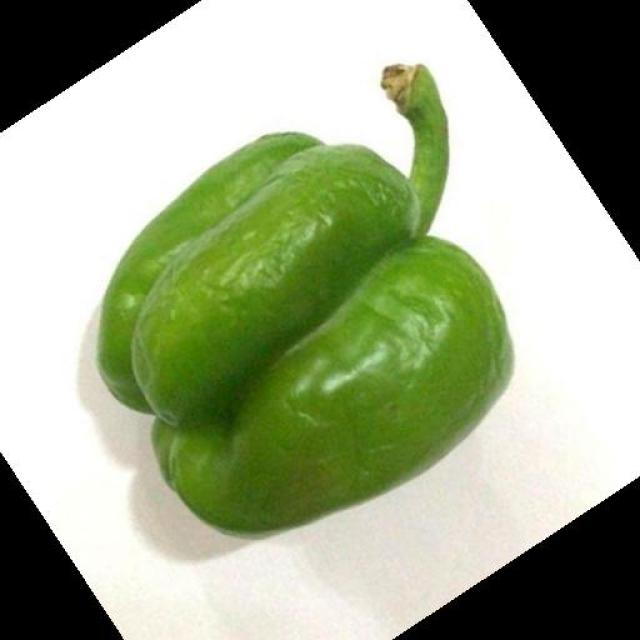Fresh_Capsicum: (109, 166, 521, 470)
